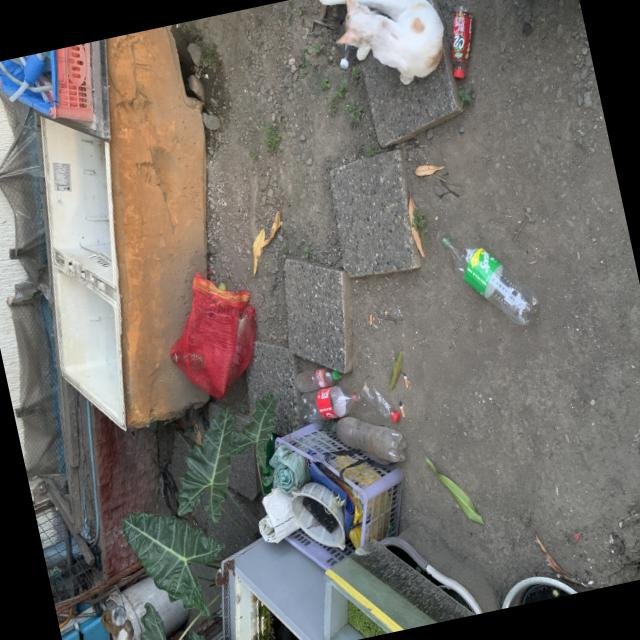Bottle: (440, 235, 538, 326)
